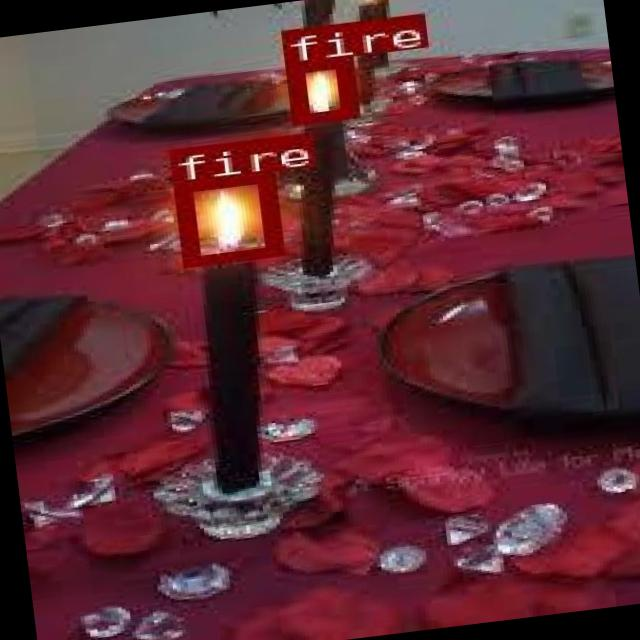fire: (172, 171, 280, 264), (284, 56, 356, 124)
